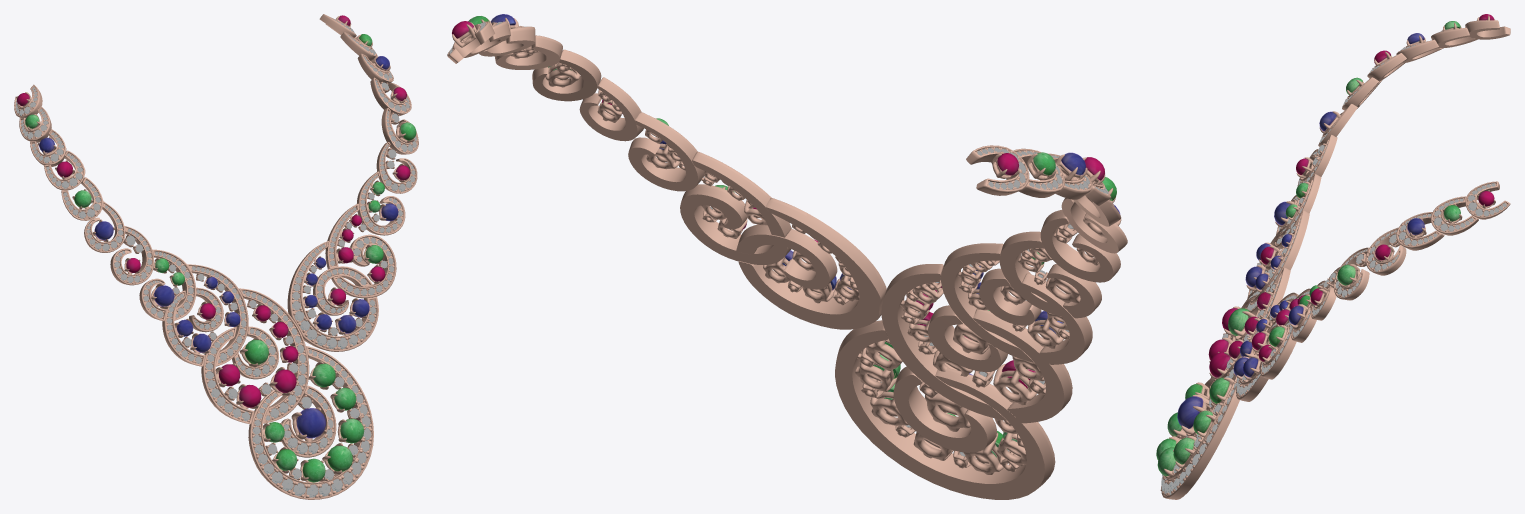
Rendered from NECKLACE.glb.
3 views of the same model, side by side, from view 1: azimuth 30°, elevation 25°; view 2: azimuth 150°, elevation 25°; view 3: azimuth 270°, elevation 25° (orthographic). The views are drawn at different scales.
Parts seen in each view (by area): view 1: BODY, SAPPHIRE.GEM.009, Emerald.GEM.009, Emerald.GEM.005, Emerald.GEM.010, RUBY.GEM.007, Emerald.GEM.012, Emerald.GEM.008, RUBY.GEM.006, Emerald.GEM.011, RUBY.GEM.005, SAPPHIRE.GEM.003 (+1 smaller); view 2: BODY, RUBY.GEM.006, SAPPHIRE.GEM.009, Emerald.GEM.011, Emerald.GEM.008, Emerald.GEM.010, SAPPHIRE.GEM.005; view 3: BODY, SAPPHIRE.GEM.009, Emerald.GEM.010, Emerald.GEM.012, Emerald.GEM.005, RUBY.GEM.007, Emerald.GEM.016, Emerald.GEM.009, Emerald.GEM.011.
Boxes of the visible parts, bbox=[...] form: BODY: bbox=[14, 14, 418, 499]; SAPPHIRE.GEM.009: bbox=[291, 407, 326, 441]; Emerald.GEM.009: bbox=[322, 443, 354, 474]; Emerald.GEM.005: bbox=[239, 337, 270, 367]; Emerald.GEM.010: bbox=[337, 418, 364, 443]; RUBY.GEM.007: bbox=[269, 367, 297, 395]; Emerald.GEM.012: bbox=[308, 361, 336, 389]; Emerald.GEM.008: bbox=[300, 458, 325, 482]; RUBY.GEM.006: bbox=[236, 384, 261, 408]; Emerald.GEM.011: bbox=[330, 386, 357, 412]; RUBY.GEM.005: bbox=[215, 363, 240, 387]; SAPPHIRE.GEM.003: bbox=[151, 283, 175, 309]; BODY: bbox=[447, 21, 1127, 499]; RUBY.GEM.006: bbox=[993, 360, 1038, 405]; SAPPHIRE.GEM.009: bbox=[925, 373, 972, 431]; Emerald.GEM.011: bbox=[855, 354, 900, 391]; Emerald.GEM.008: bbox=[963, 431, 1007, 474]; Emerald.GEM.010: bbox=[870, 383, 908, 425]; SAPPHIRE.GEM.005: bbox=[1027, 311, 1064, 348]; BODY: bbox=[1161, 20, 1510, 499]; SAPPHIRE.GEM.009: bbox=[1177, 394, 1211, 434]; Emerald.GEM.010: bbox=[1173, 436, 1196, 468]; Emerald.GEM.012: bbox=[1209, 377, 1233, 405]; Emerald.GEM.005: bbox=[1228, 308, 1255, 336]; RUBY.GEM.007: bbox=[1209, 351, 1230, 379]; Emerald.GEM.016: bbox=[1337, 264, 1360, 287]; Emerald.GEM.009: bbox=[1157, 447, 1175, 476]; Emerald.GEM.011: bbox=[1193, 410, 1216, 437].
Size of the model in its own units: 0.1853 by 0.1685 by 0.1387.
Materials: 9 (4 with a texture image).
